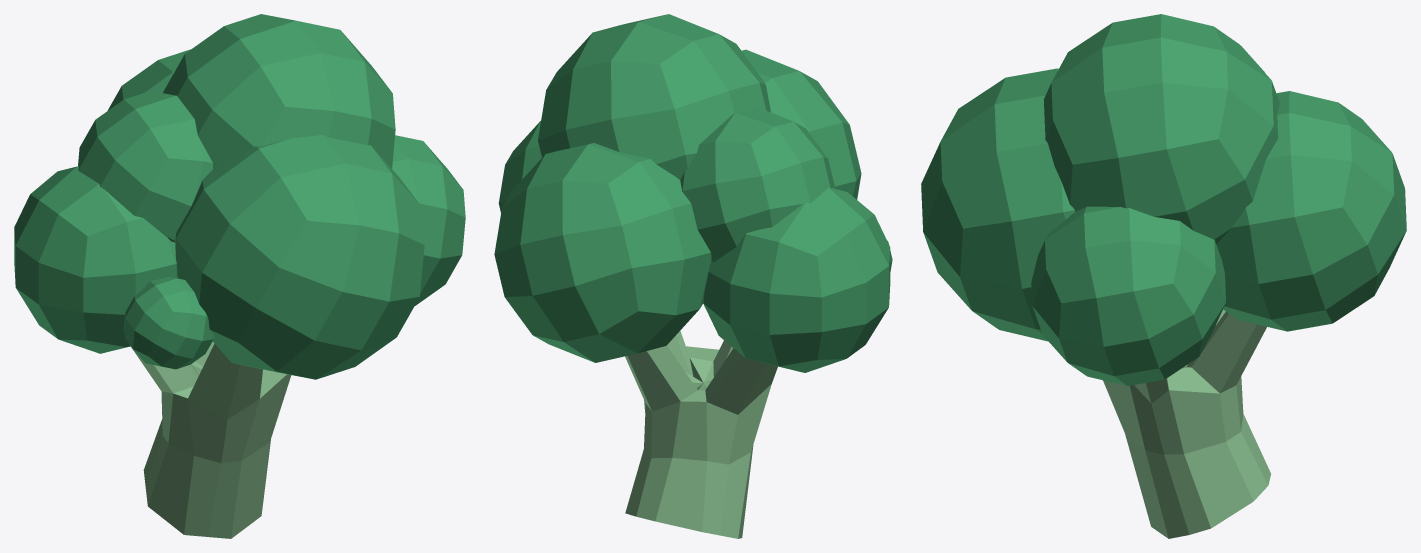
File: broccoli.glb
3 views of the same model, side by side, from view 1: azimuth 30°, elevation 25°; view 2: azimuth 150°, elevation 25°; view 3: azimuth 270°, elevation 25° (orthographic). The views are drawn at different scales.
Visible parts, largest first — view 1: Broccoli_Circle.001; view 2: Broccoli_Circle.001; view 3: Broccoli_Circle.001.
Part boxes in pixels (x1,y1,x2,y2): Broccoli_Circle.001: [14, 14, 465, 538]; Broccoli_Circle.001: [494, 14, 892, 538]; Broccoli_Circle.001: [921, 14, 1406, 538].
Size of the model in its own units: 0.3568 by 0.4268 by 0.3578.
